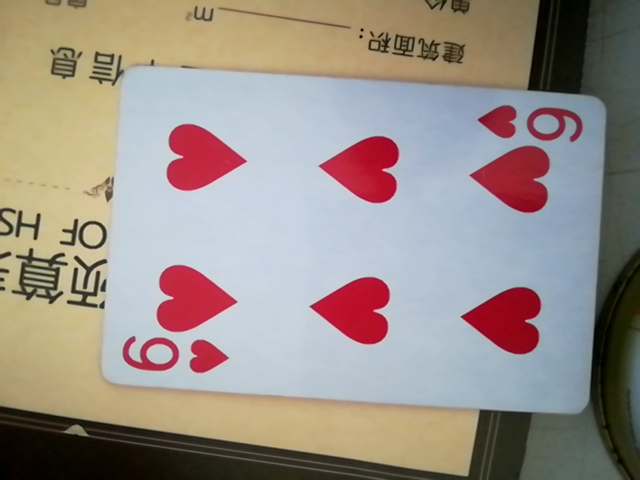hx 6: (97, 68, 609, 420)
